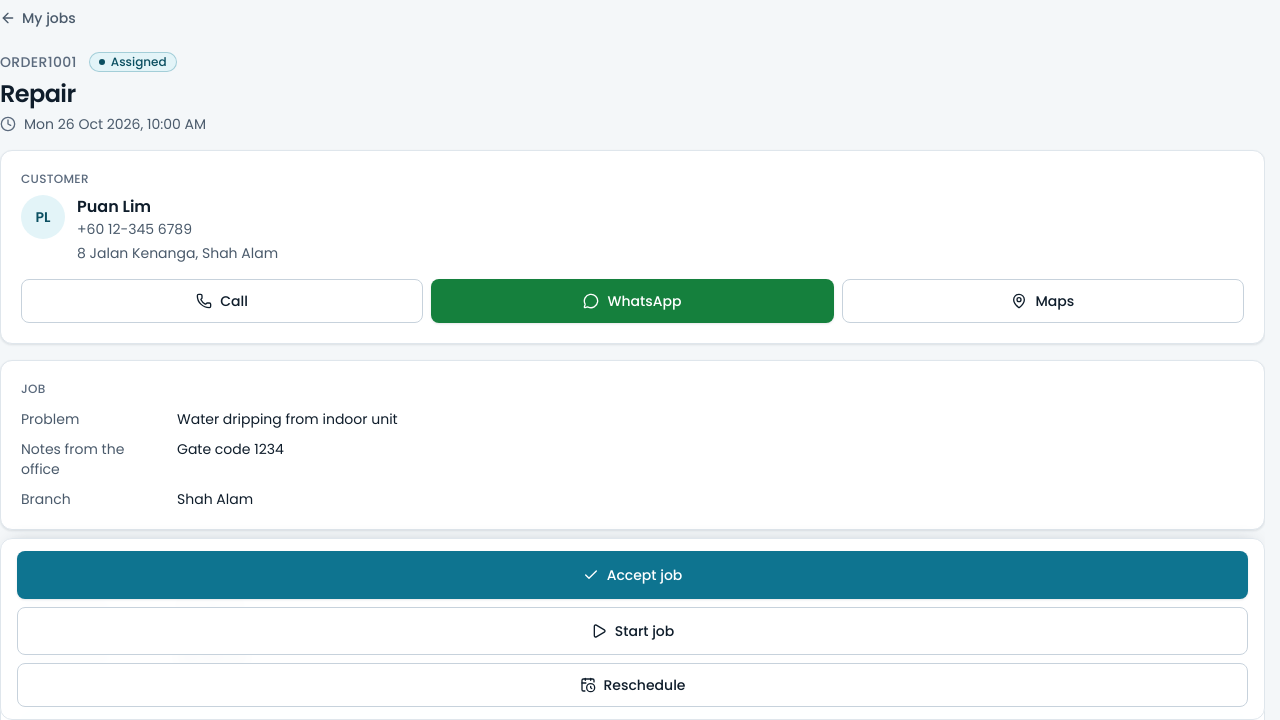
Scenario: Accept and start (AC4) › asks before starting, and does nothing on "Not yet"
The width and height of the screenshot is (1280, 720).
Click the button "Start job".
click(632, 631)  # box 17,607 -> 1248,655
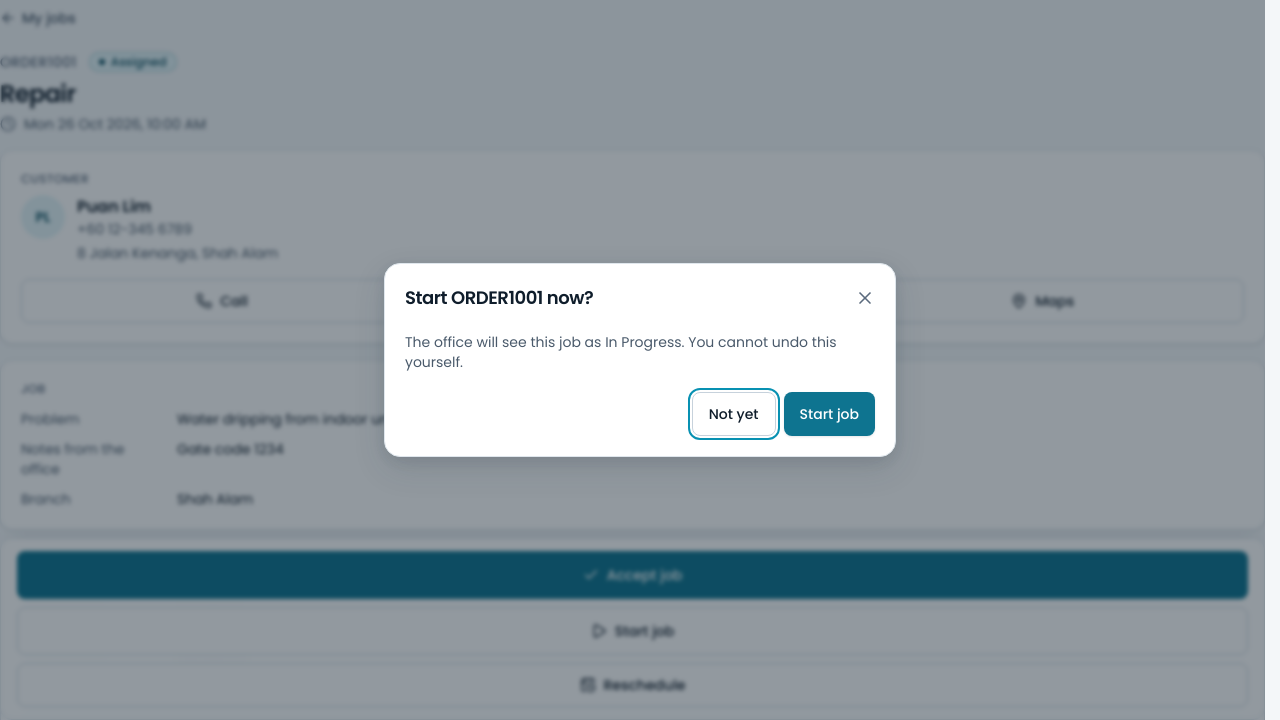
Click the button "Not yet".
click(734, 414)  # box 692,392 -> 776,436
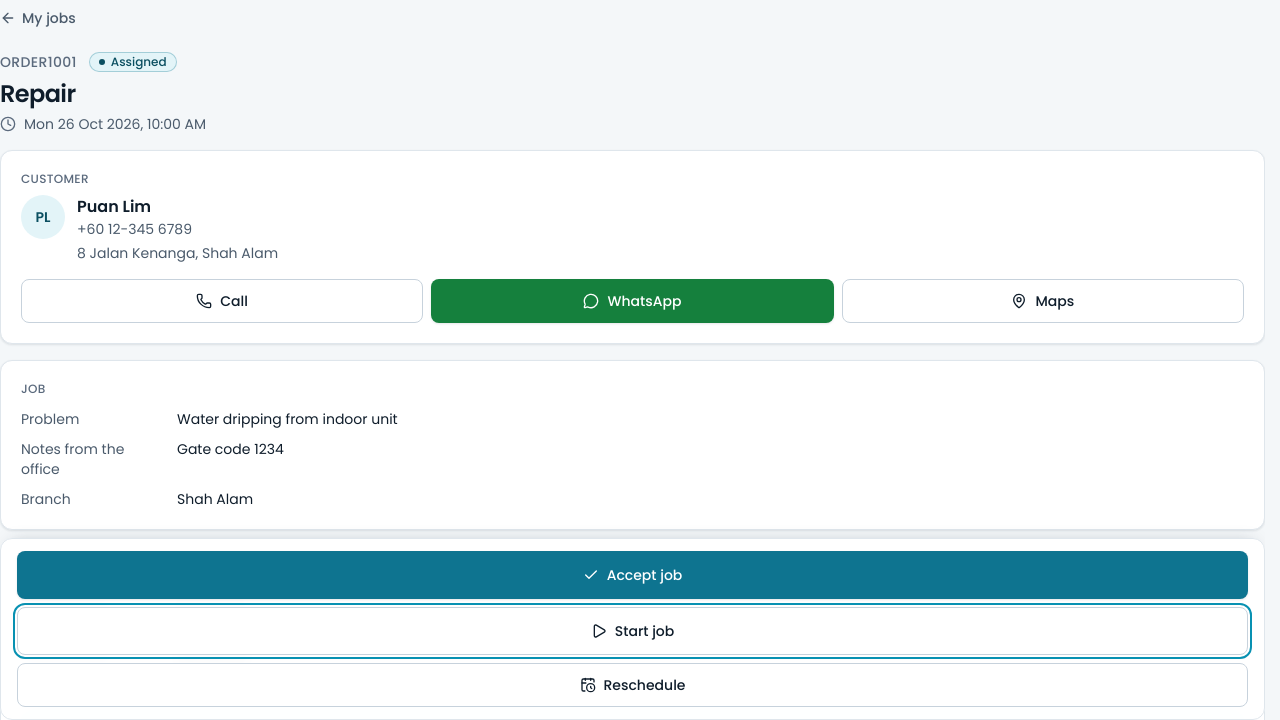
Check: the dialog is gone
Click the button "Start job".
click(632, 631)  # box 17,607 -> 1248,655
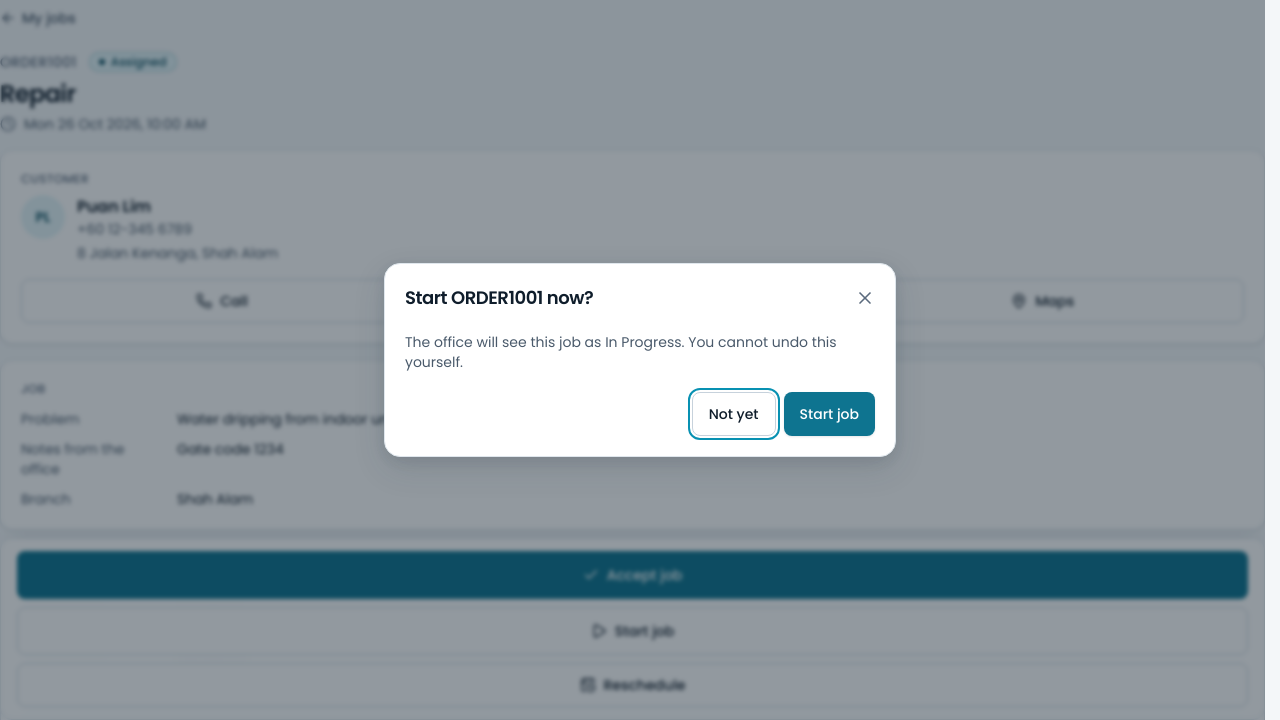
Click the button "Start job".
click(829, 414)  # box 784,392 -> 875,436
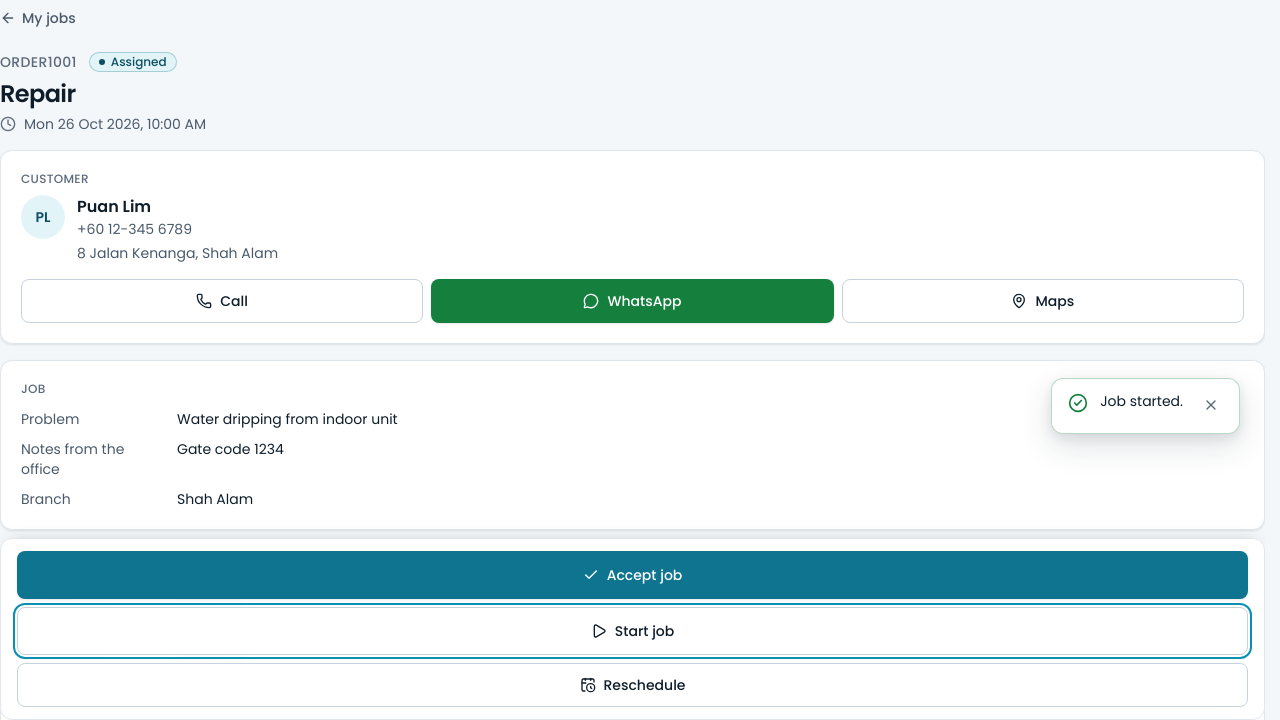
Check: the text "Job started." is shown, box 1100,391 -> 1183,411
